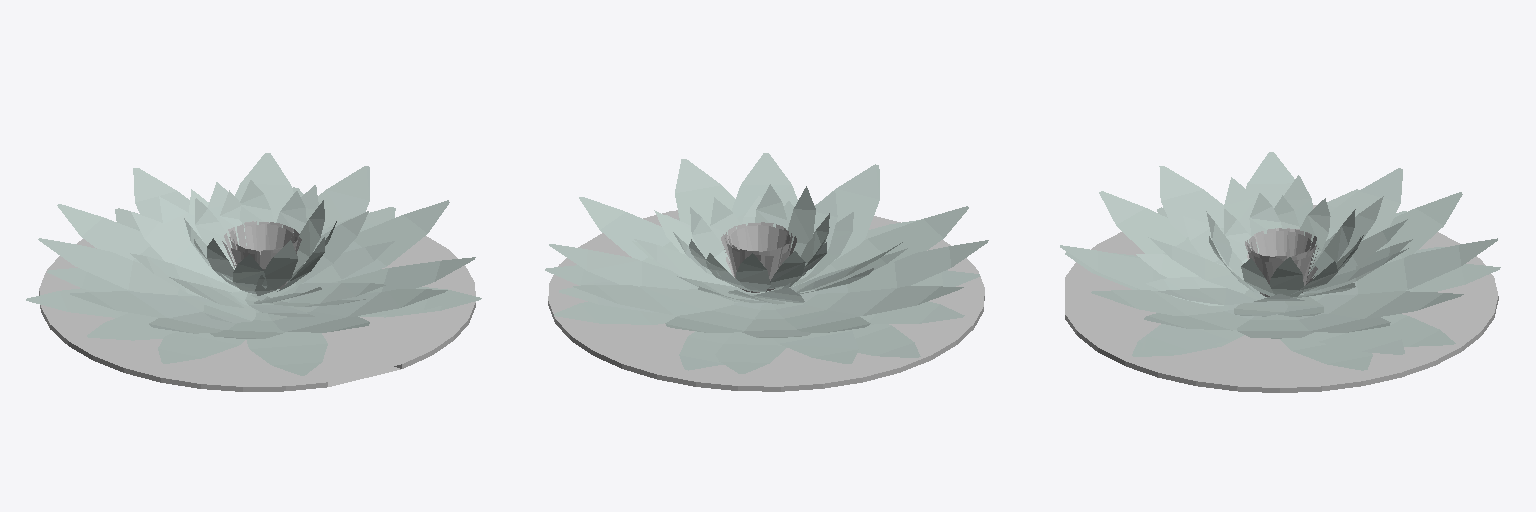
Rendered from lily.obj.
3 views of the same model, side by side, from view 1: azimuth 30°, elevation 25°; view 2: azimuth 150°, elevation 25°; view 3: azimuth 270°, elevation 25° (orthographic).
Visible parts, largest first — view 1: Circle.001; view 2: Circle.001; view 3: Circle.001.
Part boxes in pixels (x1,y1,x2,y2): Circle.001: (26, 153, 481, 391); Circle.001: (545, 153, 988, 391); Circle.001: (1060, 152, 1500, 392).
Size of the model in its own units: 4.21 by 0.9247 by 4.21.